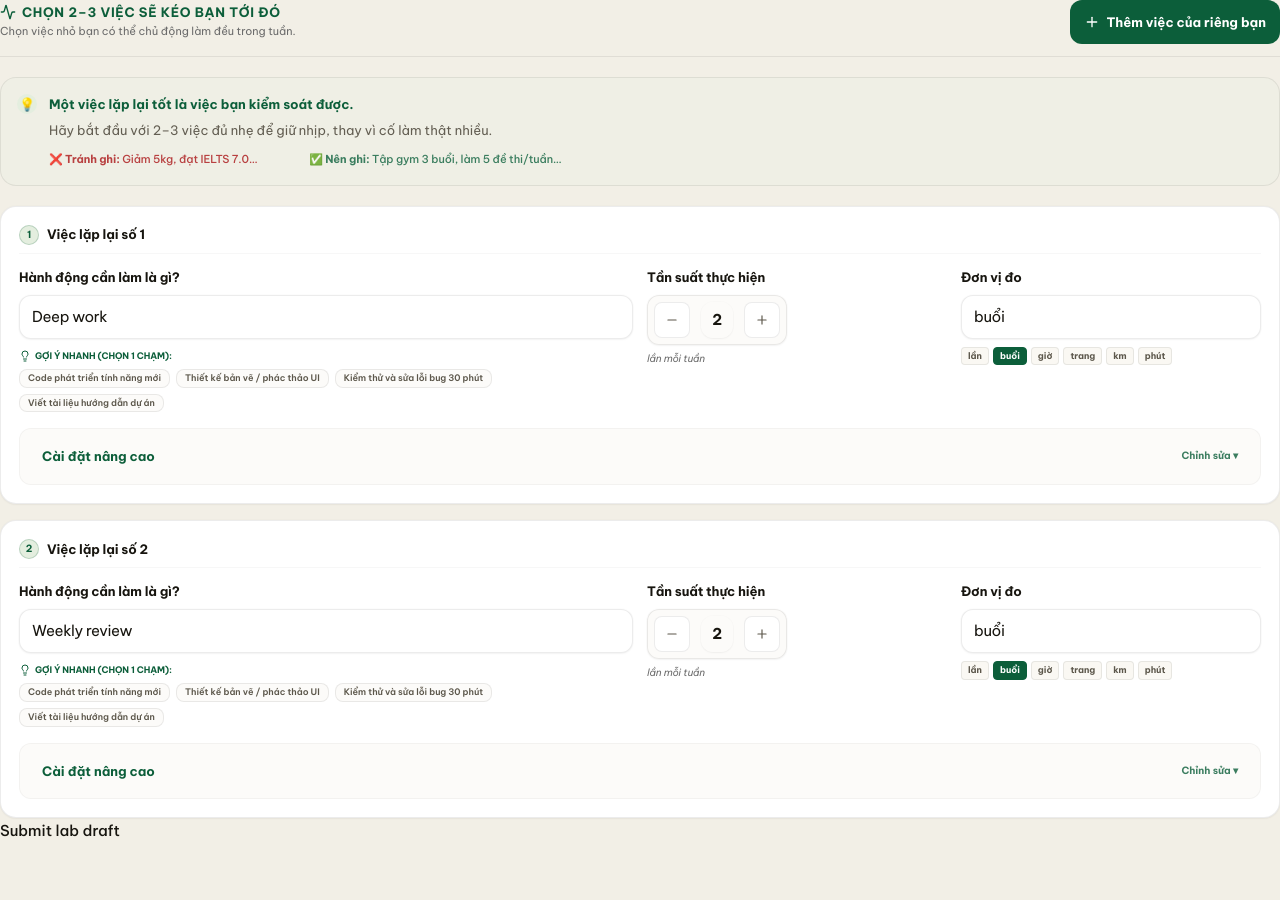
Test case: LeadIndicatorsStepLab Phase 1 polish › keeps commitment details collapsed until the user asks to edit them
The image size is (1280, 900).
Expected: the button "Thêm việc của riêng bạn" is shown, [1070, 0, 1279, 44]
Click the 1st button "Cài đặt nâng cao Chỉnh sửa ▾" at (98, 456), box [34, 443, 1246, 470]
(page scrolled)
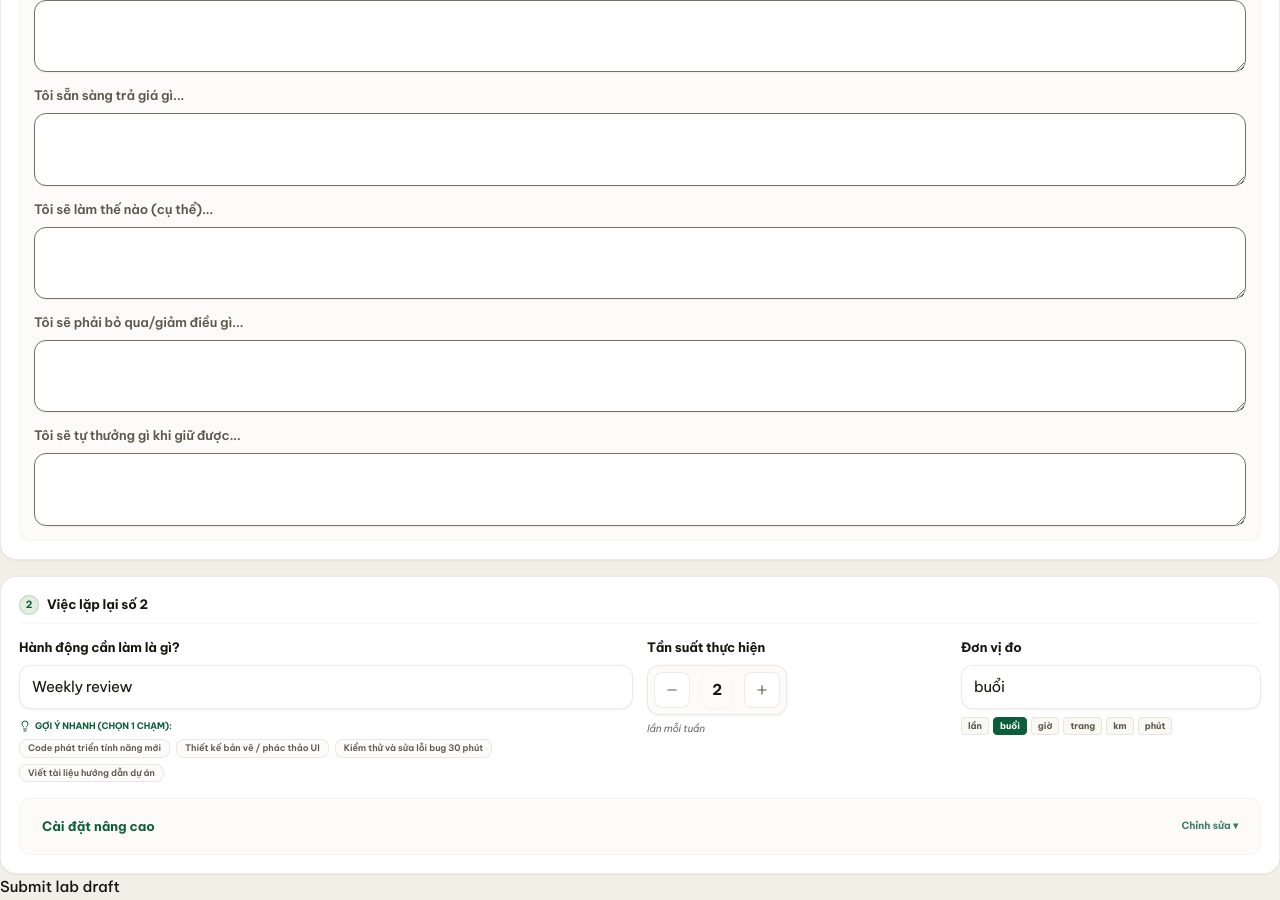
Now the text box labelled "Tôi thực sự muốn điều này vì..." is shown, box [34, 0, 1246, 72]
Now the text box labelled "Tôi sẵn sàng trả giá gì..." is shown, box [34, 113, 1246, 186]
Now the text box labelled "Tôi sẽ làm thế nào (cụ thể)..." is shown, box [34, 227, 1246, 299]
